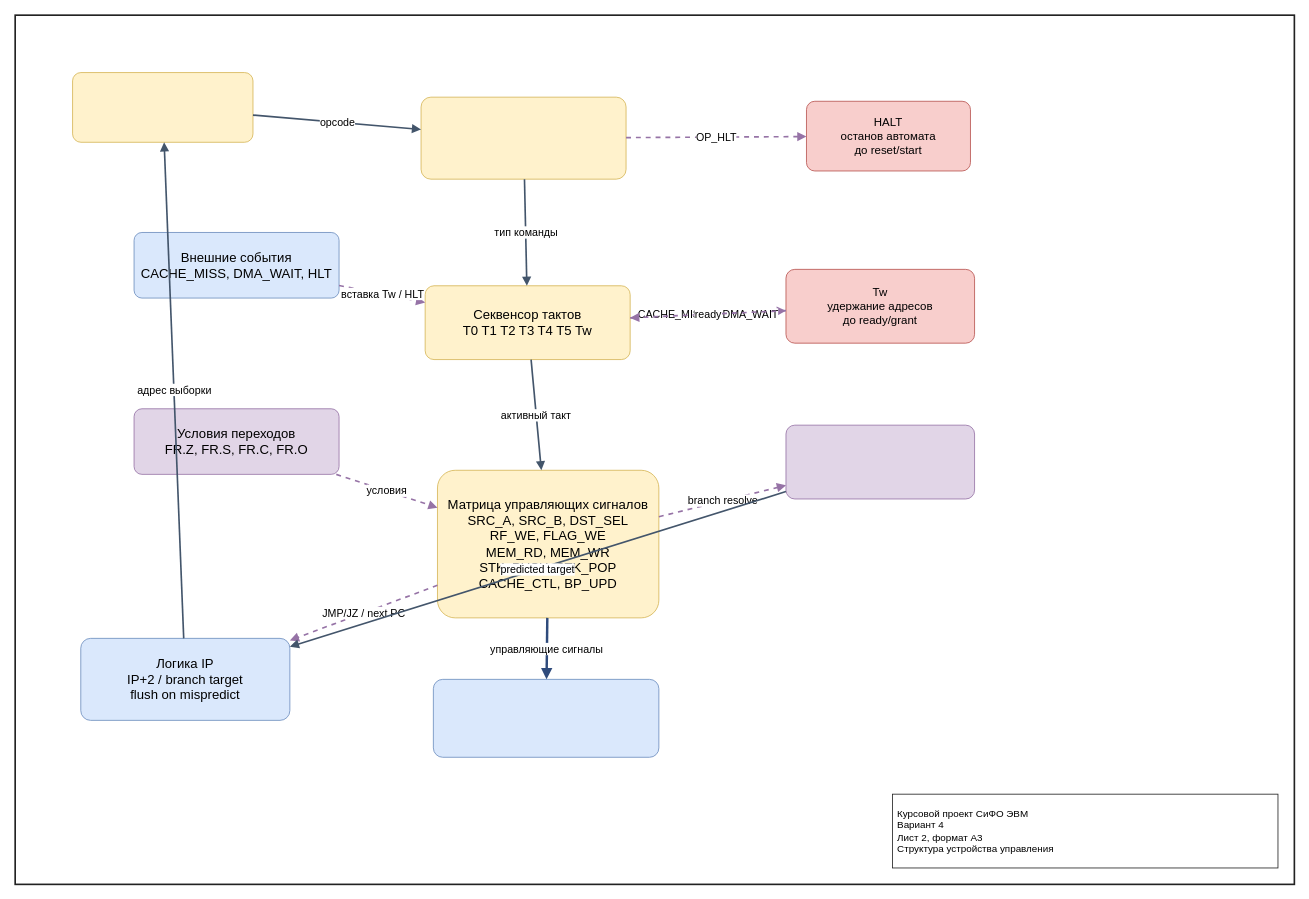
This 1309x899 diagram has some shape labels left out. Each missing label, with the centre of its shape:
IR0 + IR1 поля opcode / reg / adr: (162,107)
Дешифратор команды класс инструкции выбор маршрута: (523,137)
К целевым блокам РОН, АЛУ, стек, кэш, ОЗУ, предсказатель: (546,718)
Предсказатель A4 PRED_REQ / PRED_UPD: (880,461)
